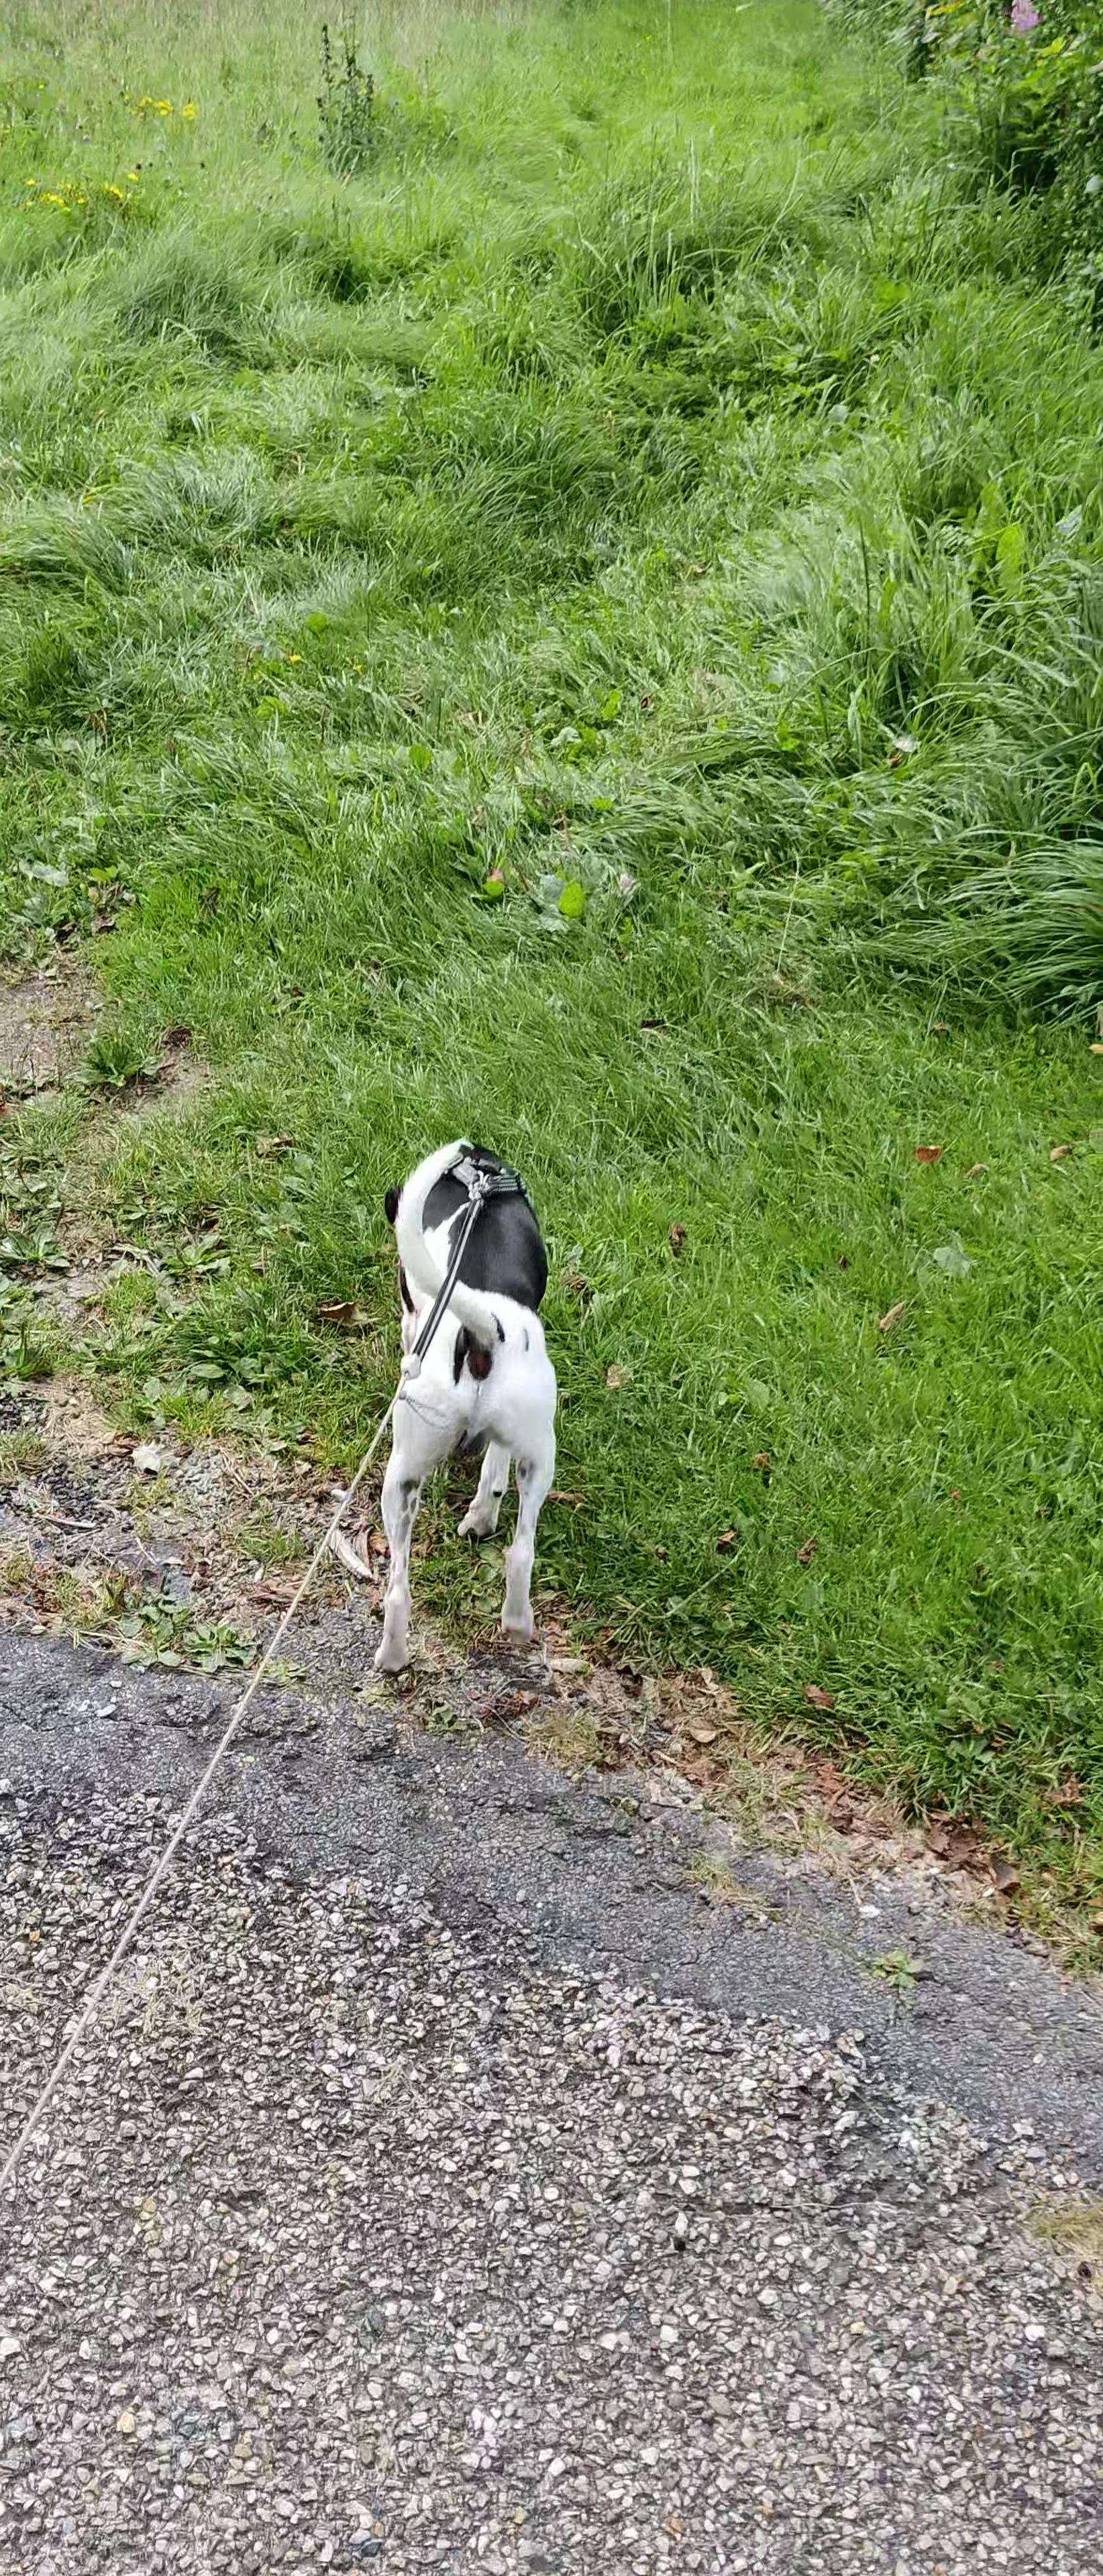Dog: (360, 1129, 567, 1677)
